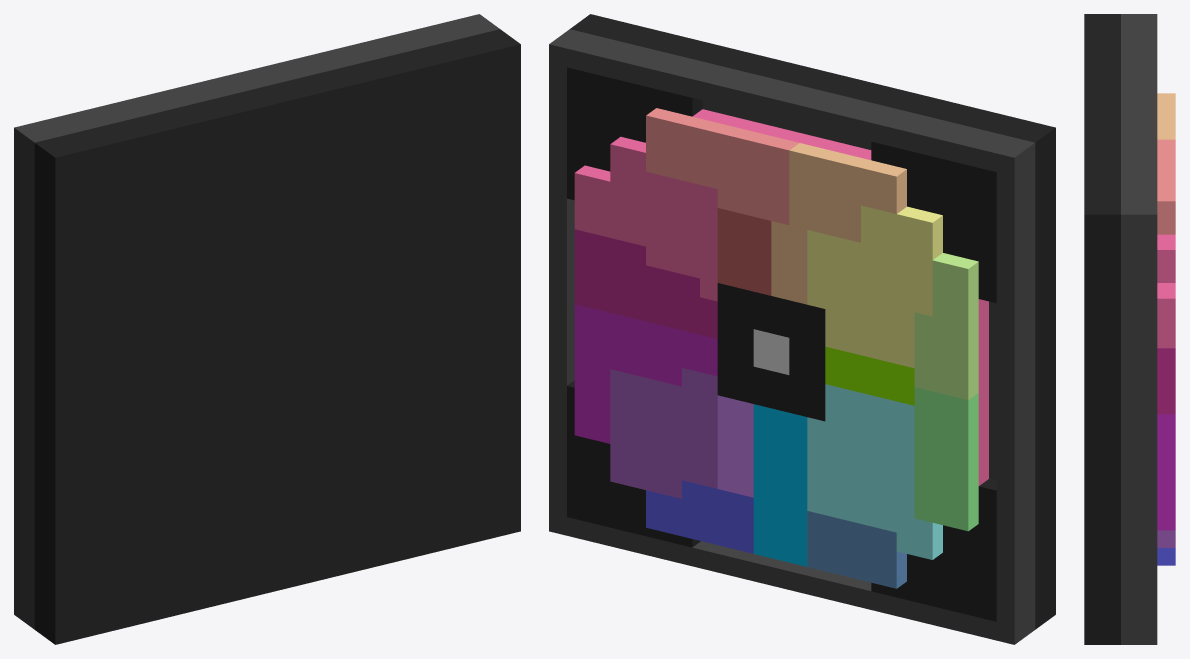
File: rgb 팬.obj
The picture shows the model from 3 angles, left to right: view 1: azimuth 30°, elevation 25°; view 2: azimuth 150°, elevation 25°; view 3: azimuth 270°, elevation 25°; orthographic projection. The views are drawn at different scales.
Bounding box in the file's own units: 2.6 × 2.6 × 0.5.
Materials: 1 (1 with a texture image).
